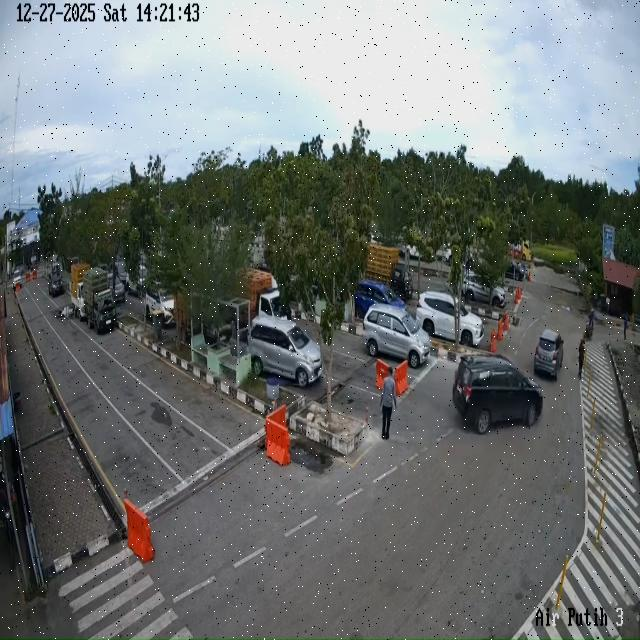Golongan IVA: (452, 354, 543, 435), (248, 316, 323, 387), (362, 304, 430, 369), (416, 291, 484, 347), (354, 279, 406, 320), (462, 271, 507, 308), (534, 329, 564, 380), (144, 288, 176, 327), (505, 260, 526, 282), (48, 272, 64, 297)
Golongan VB: (82, 267, 116, 334), (70, 263, 90, 321)
